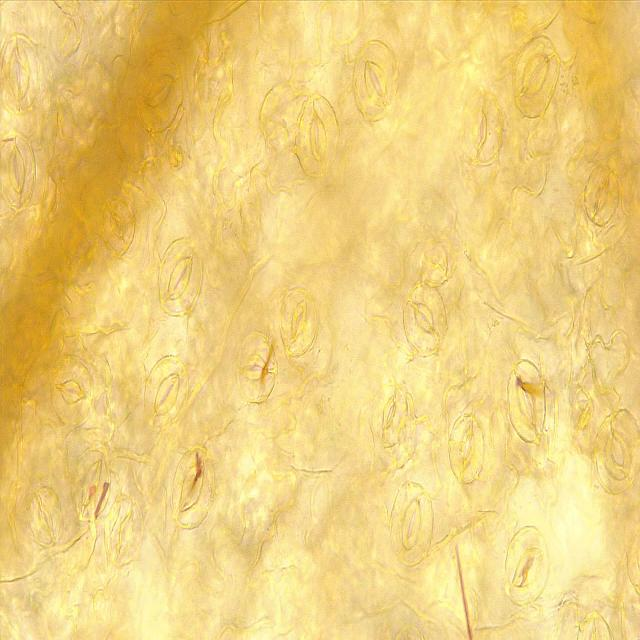Stomata: (388, 479, 435, 569), (593, 406, 640, 496), (512, 34, 561, 120), (352, 38, 399, 124), (294, 92, 339, 179), (504, 524, 549, 606), (158, 238, 204, 316), (136, 54, 183, 130), (506, 358, 547, 445), (172, 448, 215, 527), (404, 280, 448, 357), (460, 88, 504, 164), (0, 32, 40, 115), (145, 354, 188, 430), (446, 412, 486, 485), (238, 331, 278, 403), (279, 286, 319, 358), (51, 357, 92, 426), (72, 449, 110, 522), (104, 494, 142, 567), (0, 132, 36, 209), (584, 162, 620, 228), (374, 383, 408, 449), (28, 487, 62, 546), (102, 198, 136, 255), (418, 241, 449, 287)
